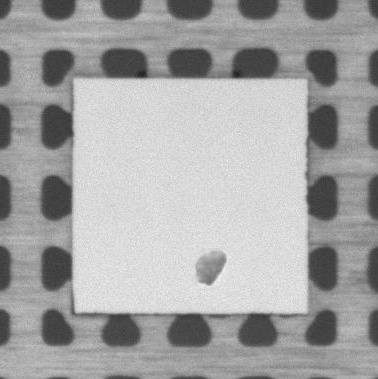DIE_INK: (192, 247, 228, 286)
